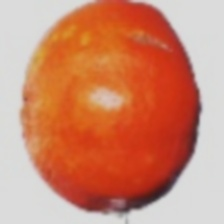tangerine: (34, 29, 177, 178)
